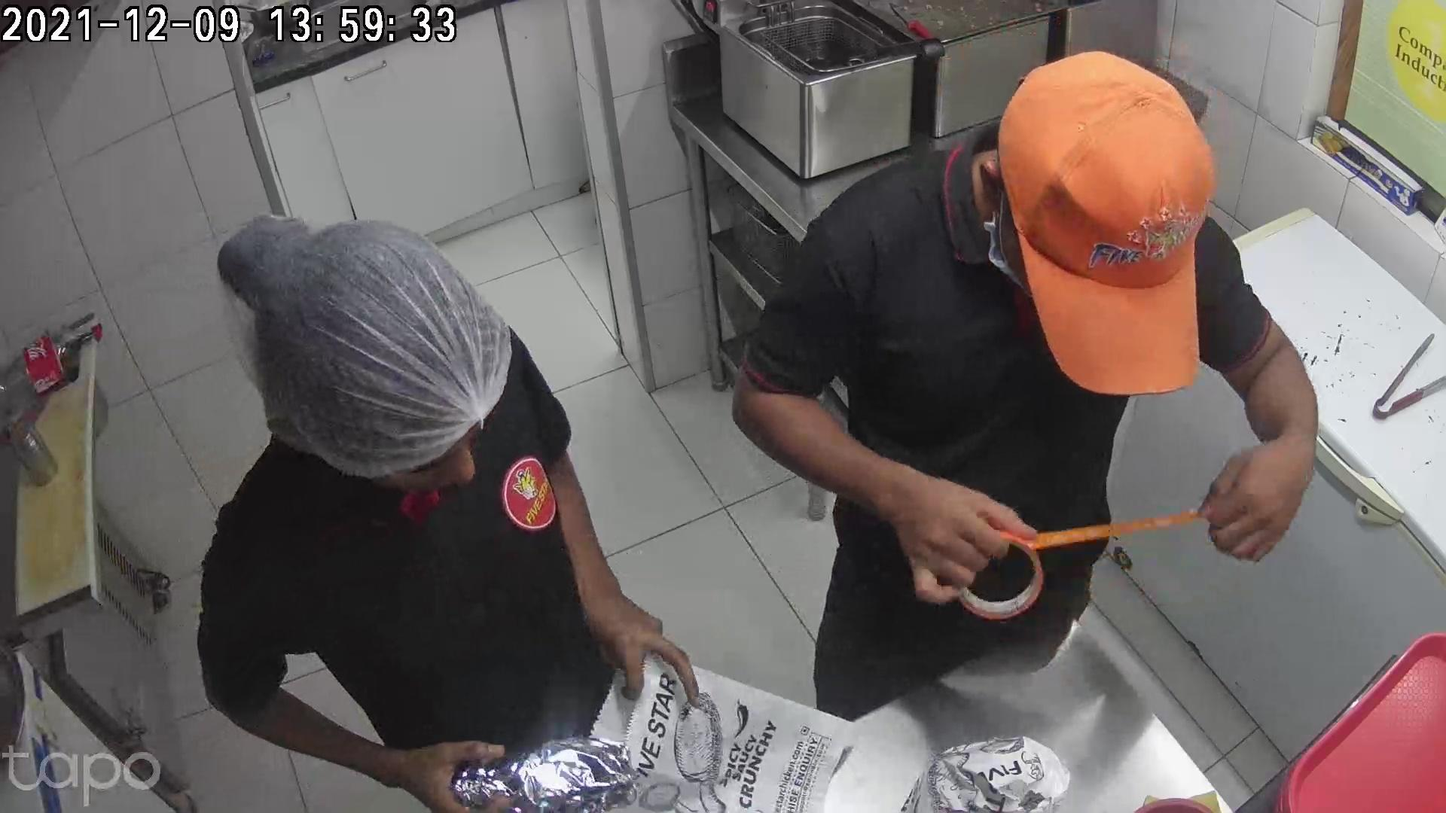no_gloves: (886, 466, 1013, 600)
